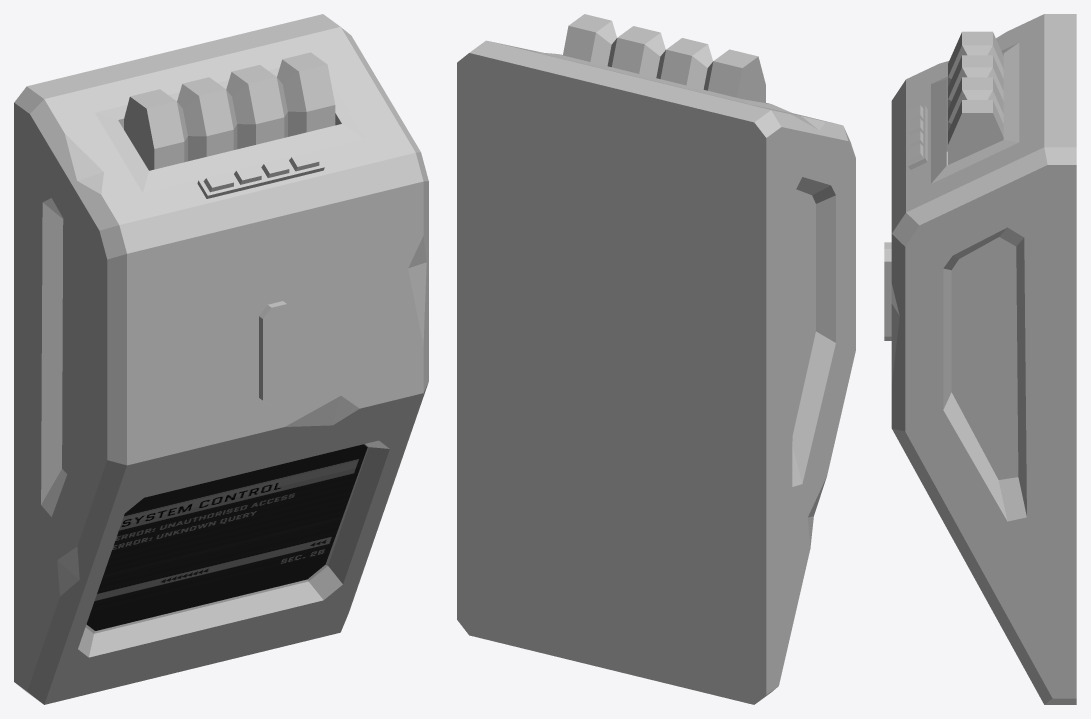
File: SM_Prop_Greeble_10.fbx
3 views of the same model, side by side, from view 1: azimuth 30°, elevation 25°; view 2: azimuth 150°, elevation 25°; view 3: azimuth 270°, elevation 25° (orthographic). The views are drawn at different scales.
Parts seen in each view (by area): view 1: SM_Prop_Greeble_10; view 2: SM_Prop_Greeble_10; view 3: SM_Prop_Greeble_10.
Boxes of the visible parts, bbox=[...] form: SM_Prop_Greeble_10: bbox=[14, 14, 428, 704]; SM_Prop_Greeble_10: bbox=[457, 14, 855, 704]; SM_Prop_Greeble_10: bbox=[884, 14, 1076, 704].
Size of the model in its own units: 83.33 by 152 by 46.86.
